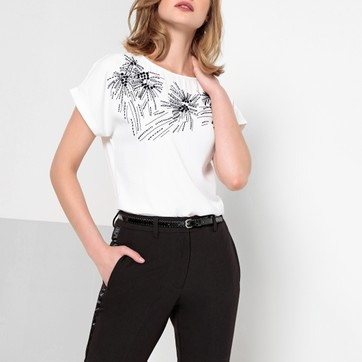C_short blouse: (72, 52, 248, 218)
